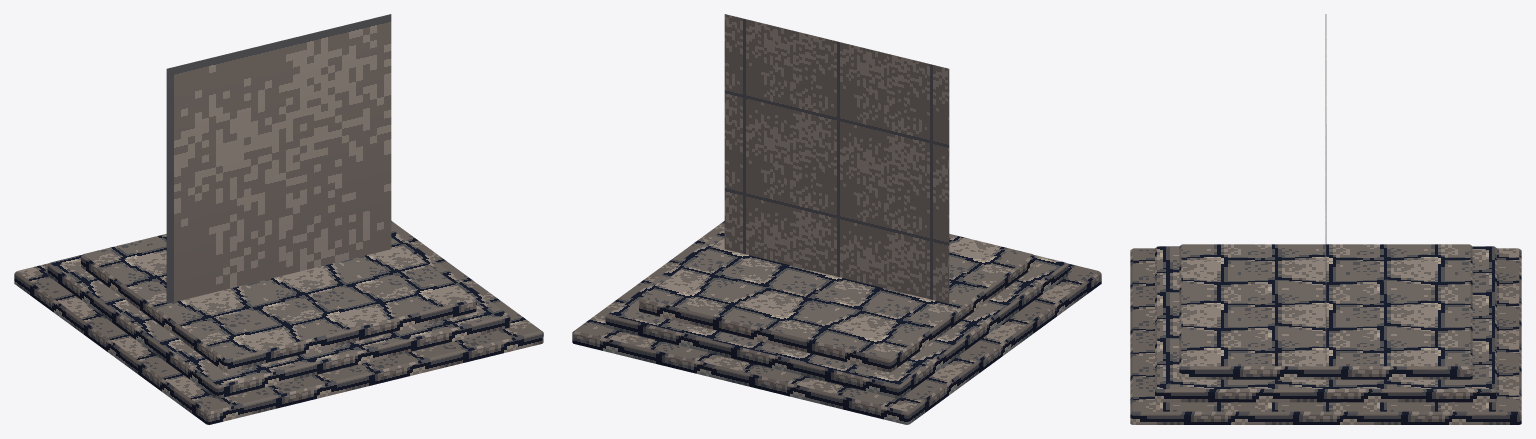
The model's file is tmpl.dais__large.glb.
The picture shows the model from 3 angles, left to right: view 1: azimuth 30°, elevation 25°; view 2: azimuth 150°, elevation 25°; view 3: azimuth 270°, elevation 25°; orthographic projection.
Visible parts, largest first — view 1: kit_dais, kit_inlay; view 2: kit_dais, kit_inlay; view 3: kit_dais, kit_inlay.
Boxes of the visible parts, x1=… form: kit_dais: x1=14, y1=221, x2=543, y2=424; kit_inlay: x1=166, y1=14, x2=391, y2=303; kit_dais: x1=572, y1=221, x2=1101, y2=424; kit_inlay: x1=724, y1=14, x2=949, y2=303; kit_dais: x1=1130, y1=244, x2=1521, y2=424; kit_inlay: x1=1325, y1=14, x2=1326, y2=360.
Size of the model in its own units: 7.2 by 5.55 by 7.2.
Materials: 2 (2 with a texture image).
